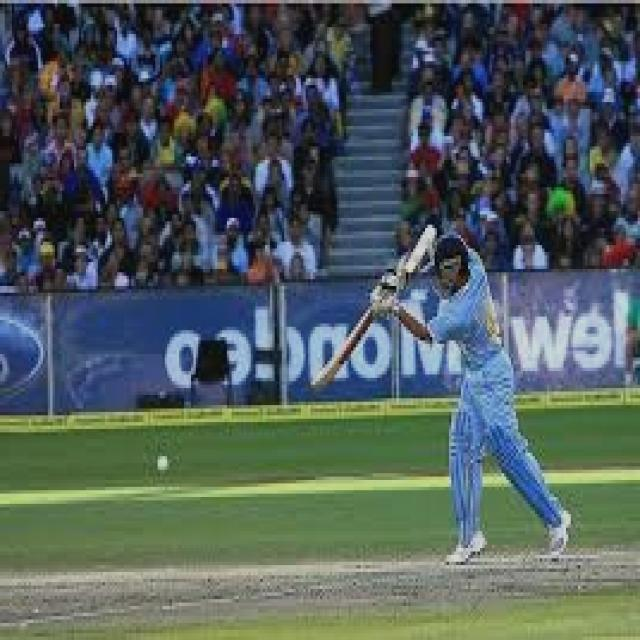bat: (306, 298, 380, 398)
